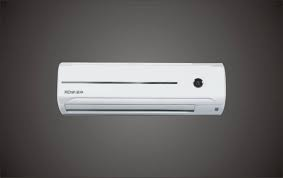ac: (53, 58, 227, 119)
